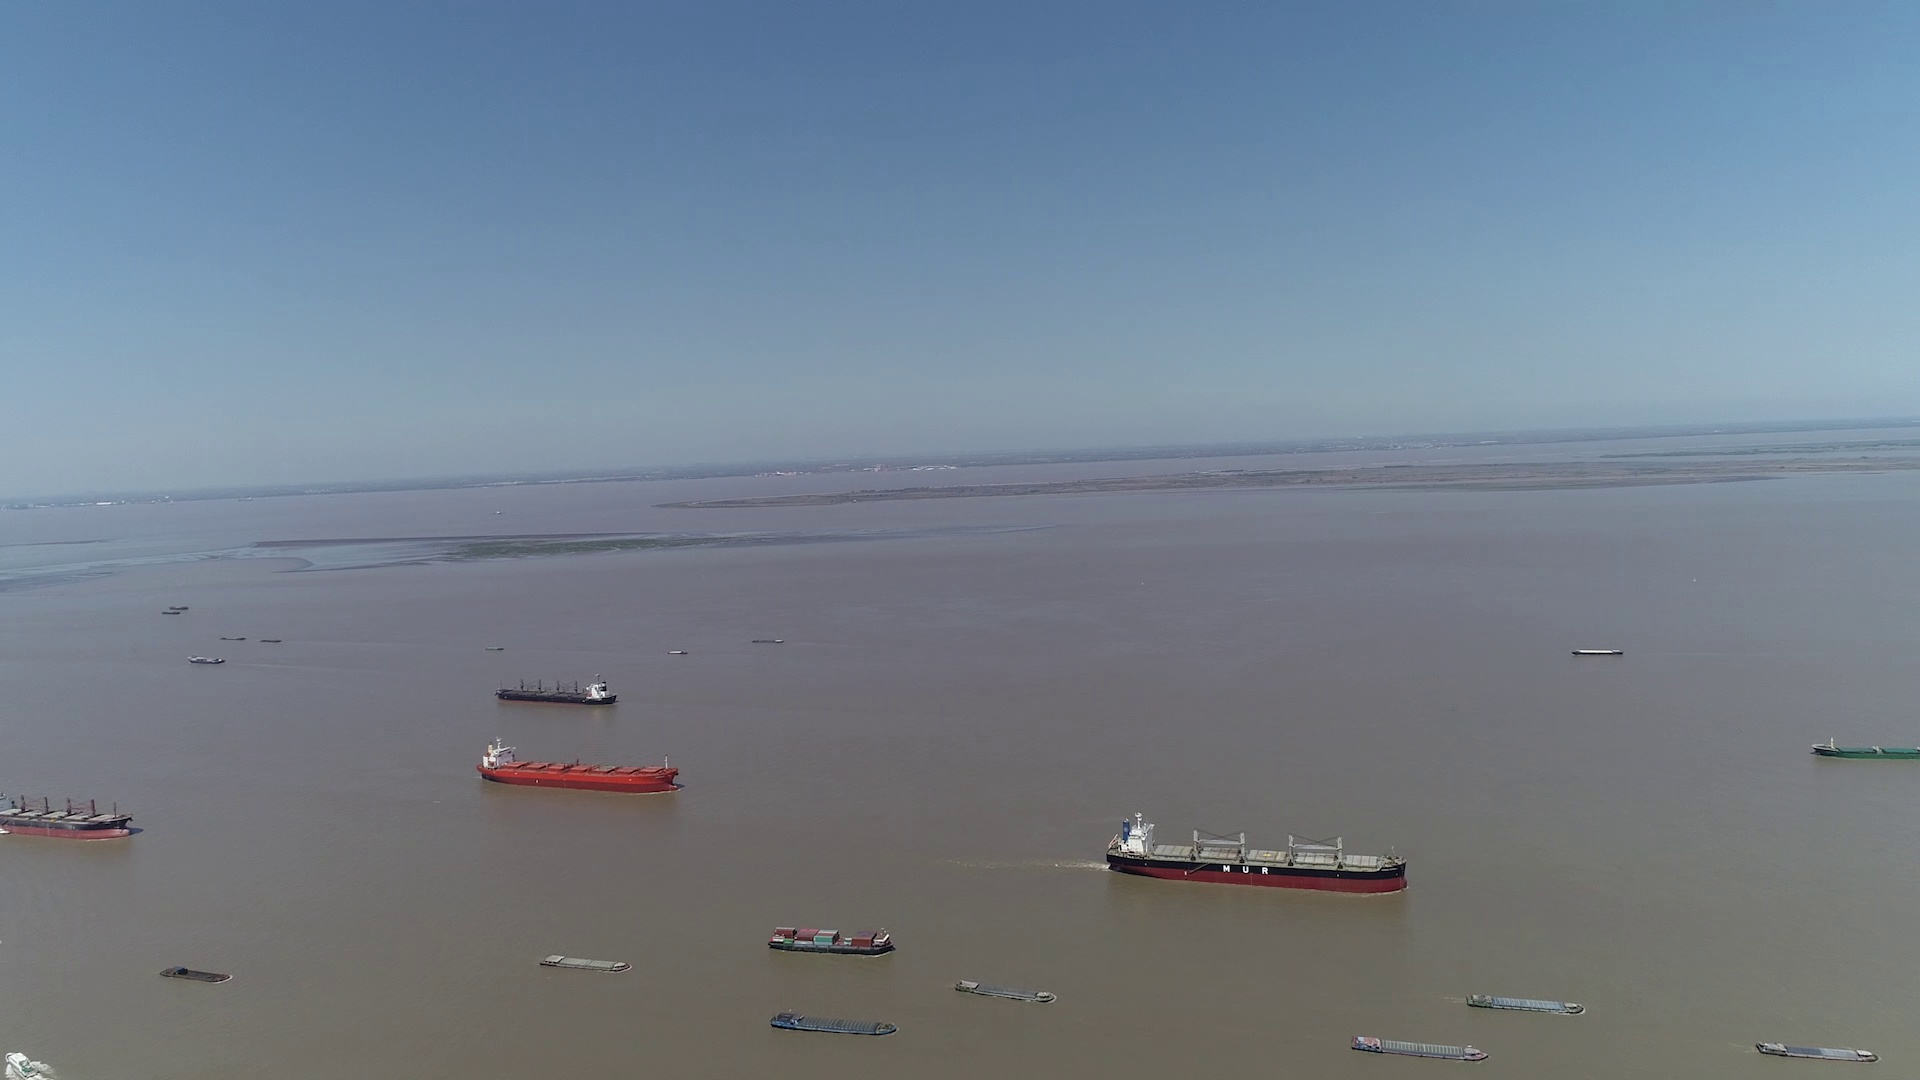ship: (1106, 814, 1410, 895), (473, 735, 682, 790), (0, 785, 132, 840), (767, 923, 895, 955), (1352, 1034, 1490, 1062), (495, 676, 618, 705), (771, 1010, 898, 1036), (1754, 1039, 1879, 1062), (1468, 993, 1582, 1015), (955, 978, 1055, 1004), (1812, 738, 1920, 760), (538, 953, 633, 973), (3, 1048, 49, 1079), (160, 967, 231, 982), (1571, 647, 1623, 655), (189, 655, 227, 665)
